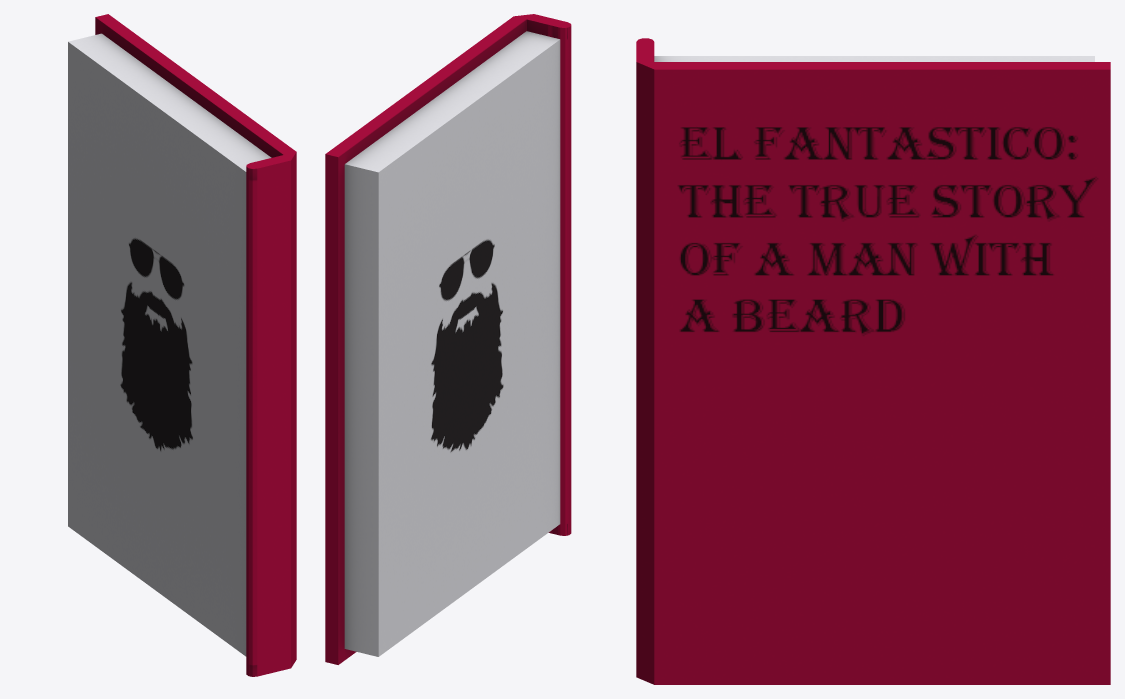
File: book 2.FBX
3 renders of one model, left to right at view 1: azimuth 30°, elevation 25°; view 2: azimuth 150°, elevation 25°; view 3: azimuth 270°, elevation 25°, orthographic. The views are drawn at different scales.
Visible parts, largest first — view 1: bookLeft; view 2: bookLeft; view 3: bookLeft.
Boxes of the visible parts, box(x1,y1,x2,y2) form: bookLeft: box(68, 14, 296, 676); bookLeft: box(325, 14, 571, 664); bookLeft: box(636, 38, 1110, 684).
Size of the model in its own units: 2 by 10.31 by 7.2.
1 material, 1 textured.
